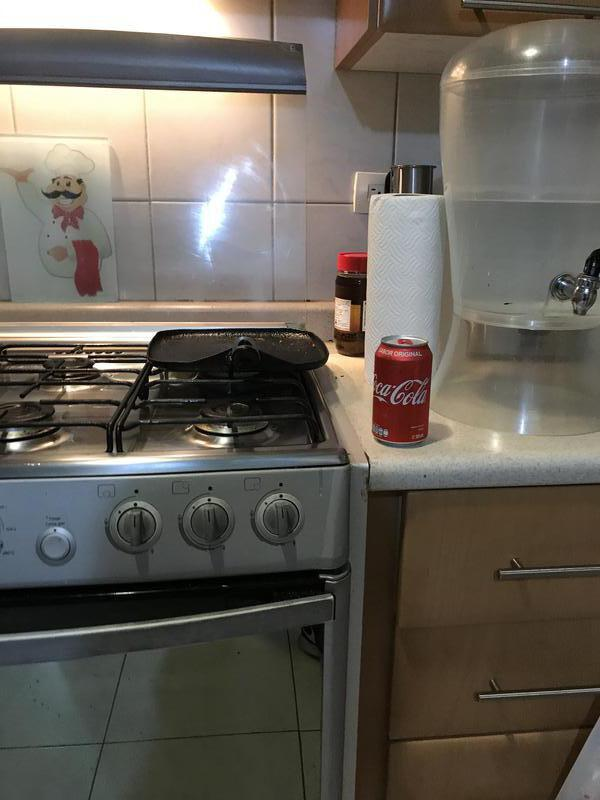coca_cola: (372, 335, 431, 448)
